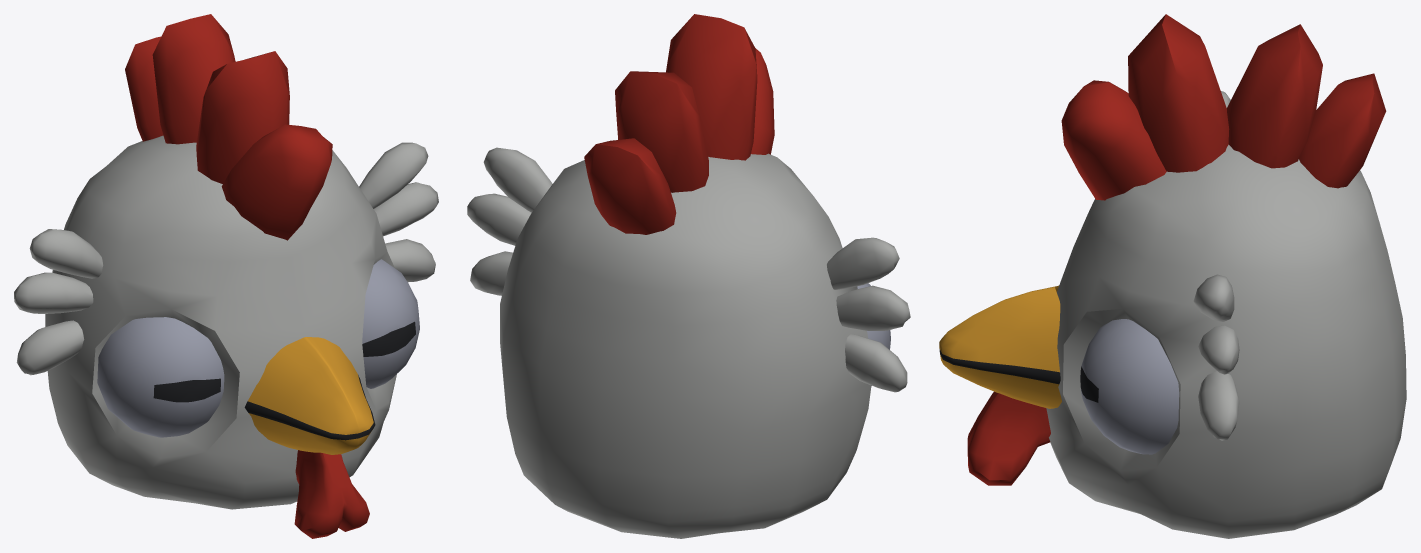
Rendered from Chicken.obj.
3 renders of one model, left to right at view 1: azimuth 30°, elevation 25°; view 2: azimuth 150°, elevation 25°; view 3: azimuth 270°, elevation 25°, orthographic. The views are drawn at different scales.
Parts seen in each view (by area): view 1: Chicken_Blob_Cube.211; view 2: Chicken_Blob_Cube.211; view 3: Chicken_Blob_Cube.211.
Part boxes in pixels (left/top/right/bottom): Chicken_Blob_Cube.211: left=14, top=14, right=438, bottom=538; Chicken_Blob_Cube.211: left=467, top=14, right=910, bottom=538; Chicken_Blob_Cube.211: left=939, top=14, right=1406, bottom=538.
Bounding box in the file's own units: 2.35 × 2.36 × 2.1.
